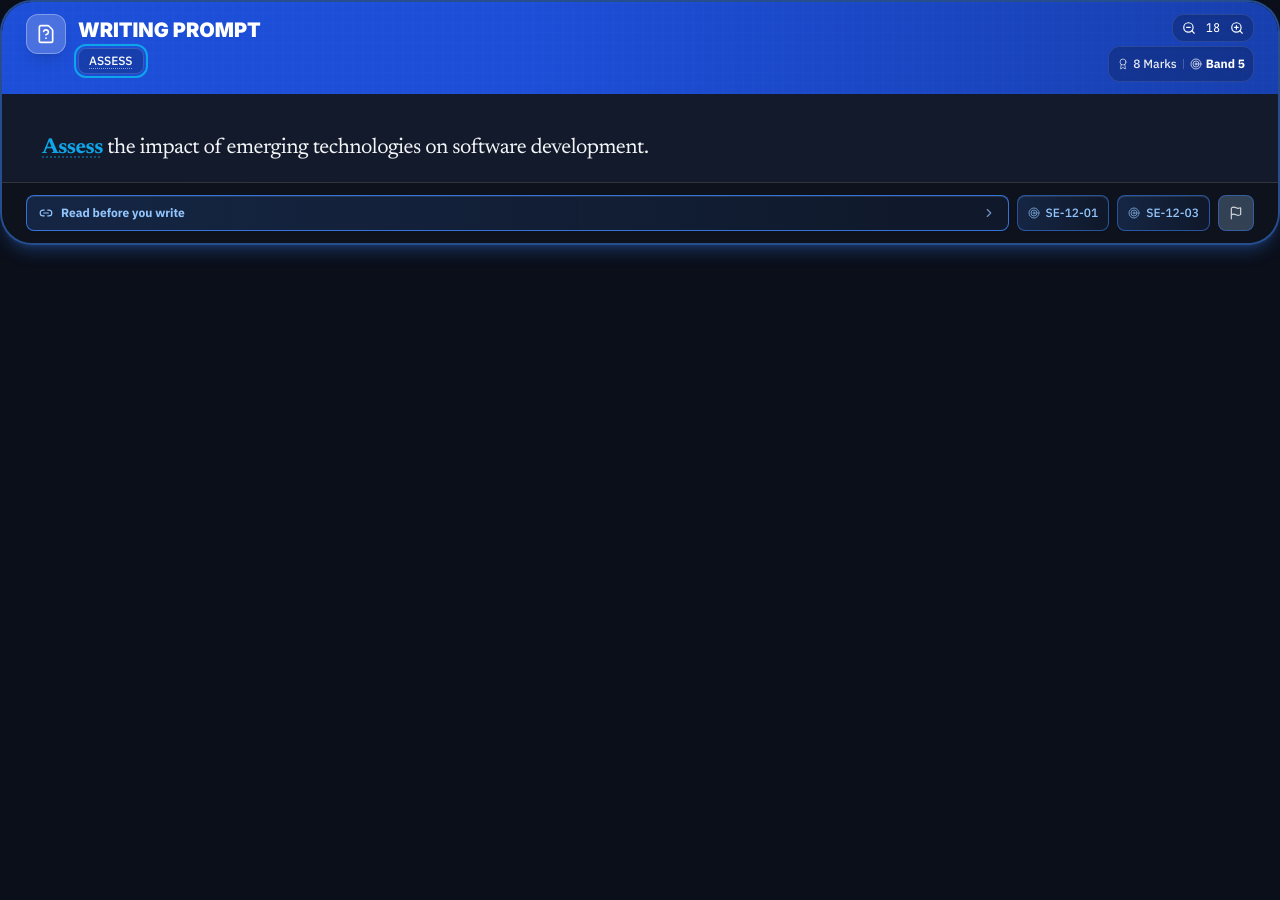
Scenario: focus returns to the prompt card’s triggers › the verb chip opens the command verb guide › returns focus to the verb chip when the guide is closed with Escape
This screenshot has width=1280, height=900.
Click the button with aria-label "Open the command verb guide for ASSESS" at [111, 61], box [78, 48, 144, 74]
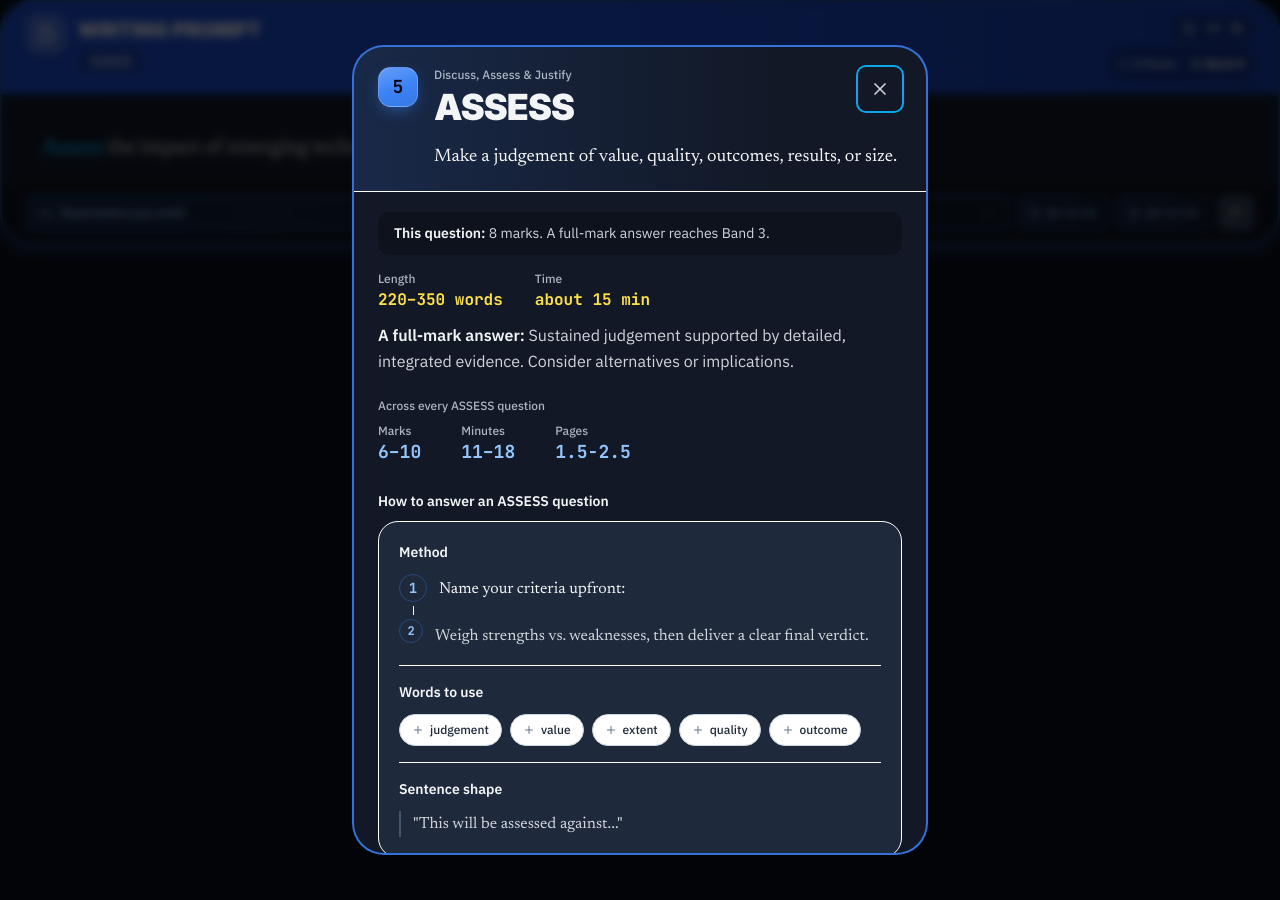
Check: the dialog "Assess" is shown, box [352, 45, 928, 855]
Press Escape in the button named "Close the command verb guide", box [858, 67, 902, 111]
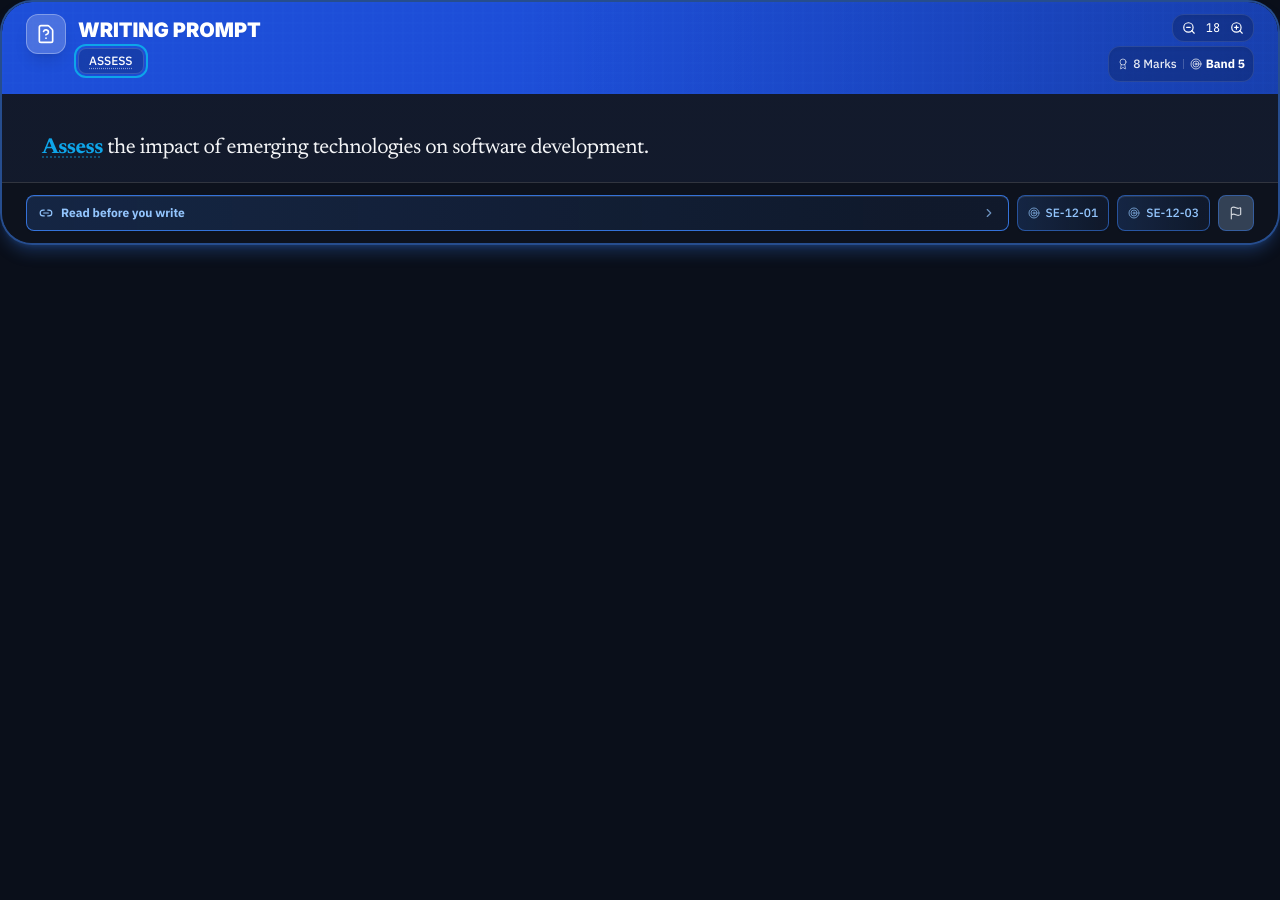
Check: the dialog is gone
